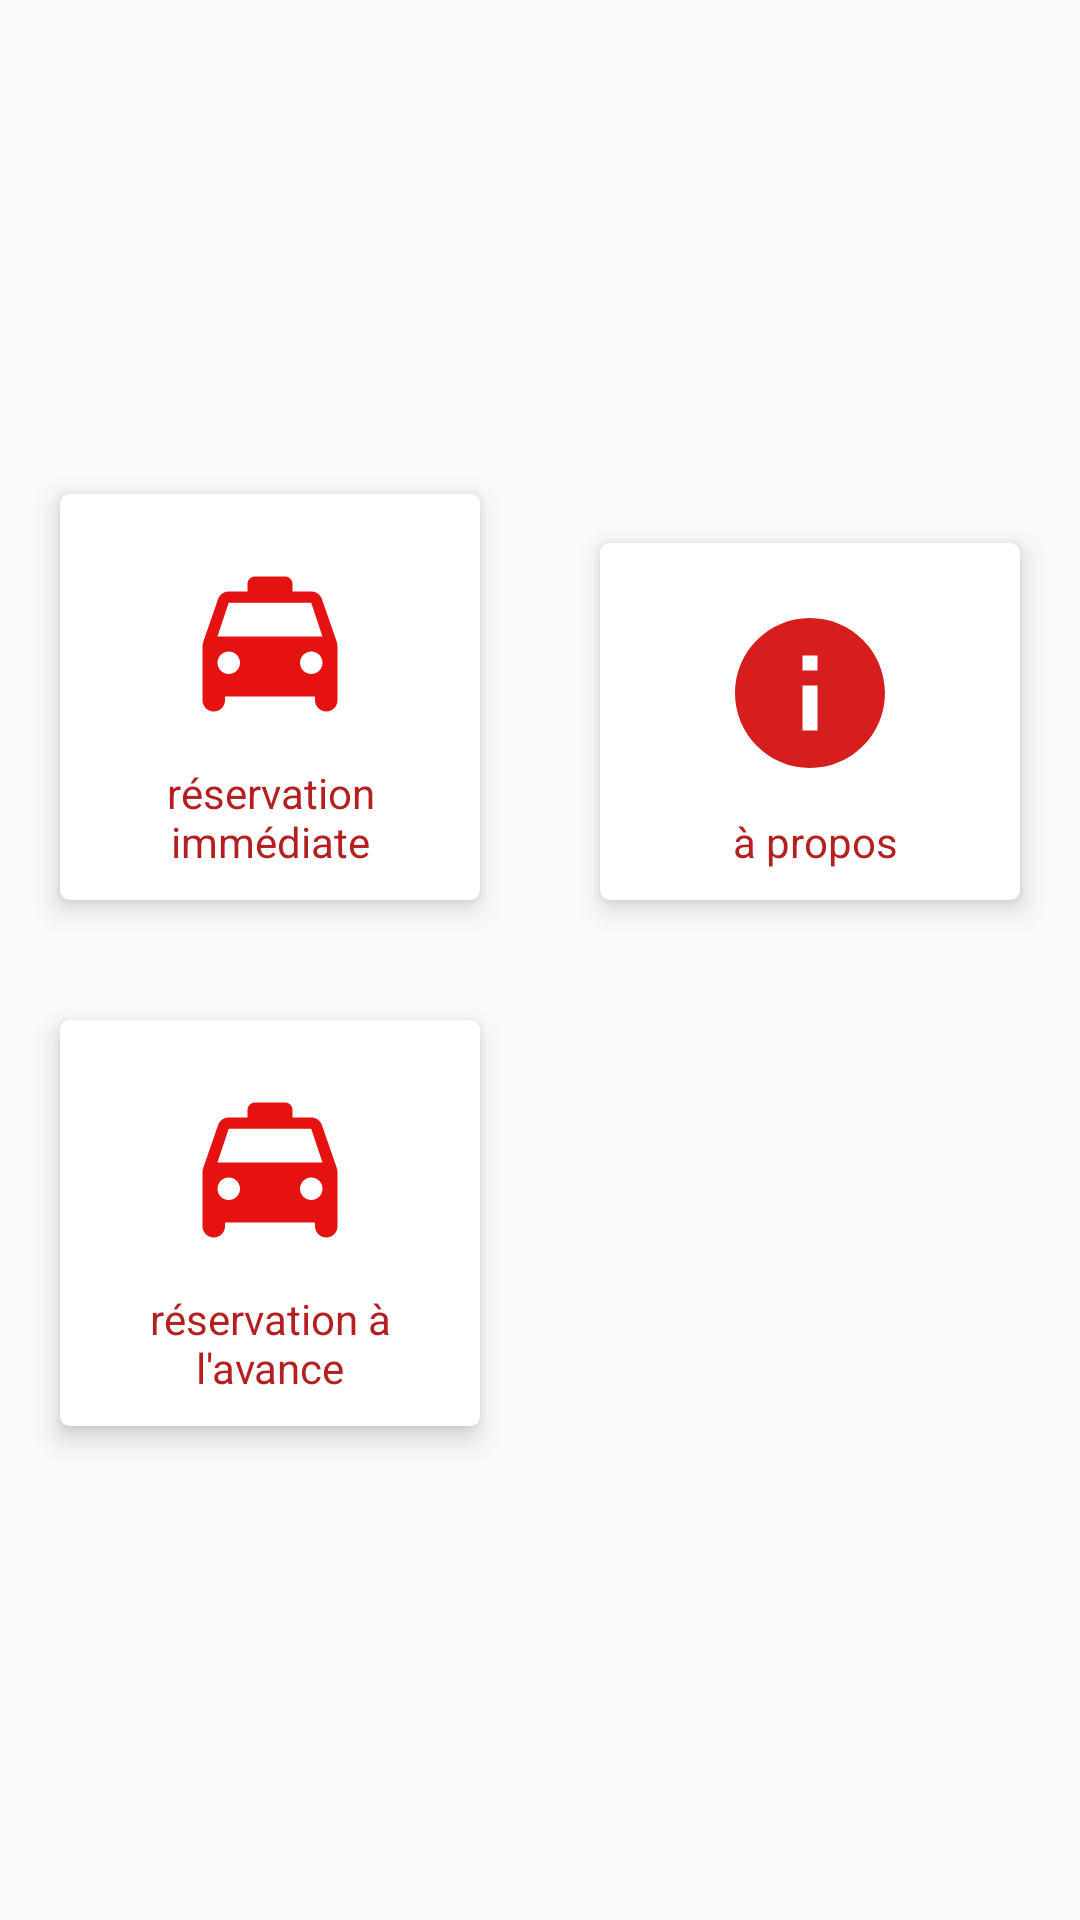

Icons on this 1080 x 1920 Android screen, each with its box as box(x1, y1, x2, y2):
info: box(735, 618, 885, 768)
local taxi: box(202, 576, 338, 712), box(202, 1102, 338, 1238)
